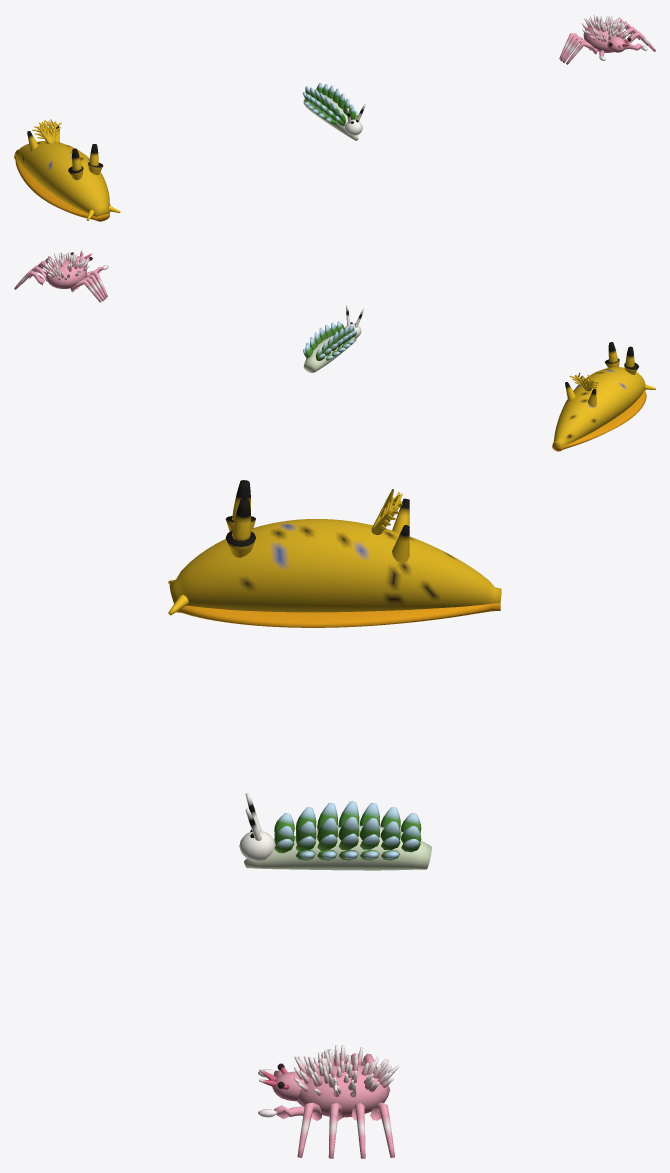
The model's file is rare-minis.glb.
3 renders of one model, top to bottom at view 1: azimuth 30°, elevation 25°; view 2: azimuth 150°, elevation 25°; view 3: azimuth 270°, elevation 25°, orthographic. The views are drawn at different scales.
Visible parts, largest first — view 1: Pikachu_Nudibranch, Candy_Crab, Leaf_Sheep; view 2: Pikachu_Nudibranch, Candy_Crab, Leaf_Sheep; view 3: Pikachu_Nudibranch, Leaf_Sheep, Candy_Crab.
Part boxes in pixels (x1=…): Pikachu_Nudibranch: x1=14, y1=119, x2=120, y2=221; Candy_Crab: x1=559, y1=14, x2=655, y2=64; Leaf_Sheep: x1=302, y1=83, x2=365, y2=140; Pikachu_Nudibranch: x1=552, y1=342, x2=655, y2=451; Candy_Crab: x1=14, y1=250, x2=108, y2=302; Leaf_Sheep: x1=303, y1=305, x2=364, y2=372; Pikachu_Nudibranch: x1=168, y1=480, x2=501, y2=627; Leaf_Sheep: x1=239, y1=793, x2=431, y2=870; Candy_Crab: x1=258, y1=1045, x2=398, y2=1158.
Size of the model in its own units: 0.6749 by 0.0642 by 0.1634.
